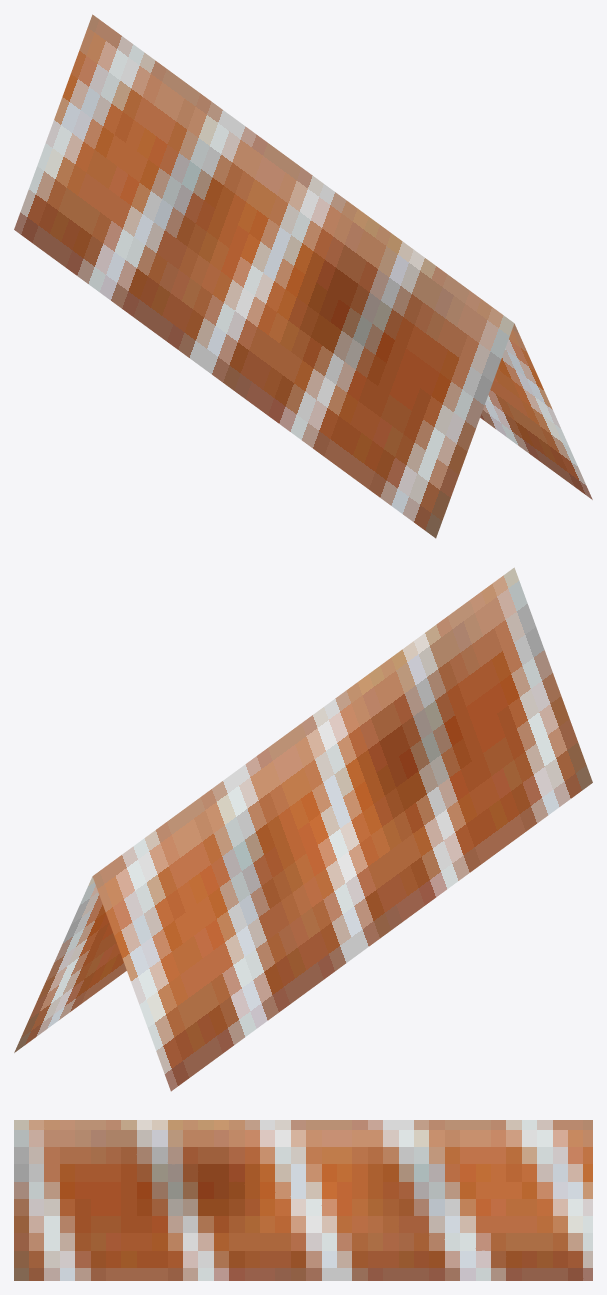
The model's file is sign07.glb.
3 renders of one model, top to bottom at view 1: azimuth 30°, elevation 25°; view 2: azimuth 150°, elevation 25°; view 3: azimuth 270°, elevation 25°, orthographic. The views are drawn at different scales.
Parts seen in each view (by area): view 1: sign07; view 2: sign07; view 3: sign07.
Boxes of the visible parts, x1,y1,x2,y2 form: sign07: (14, 14, 592, 538); sign07: (14, 567, 592, 1091); sign07: (14, 1120, 592, 1280).
Bounding box in the file's own units: 70.84 × 84.61 × 330.
Materials: 1 (1 with a texture image).
